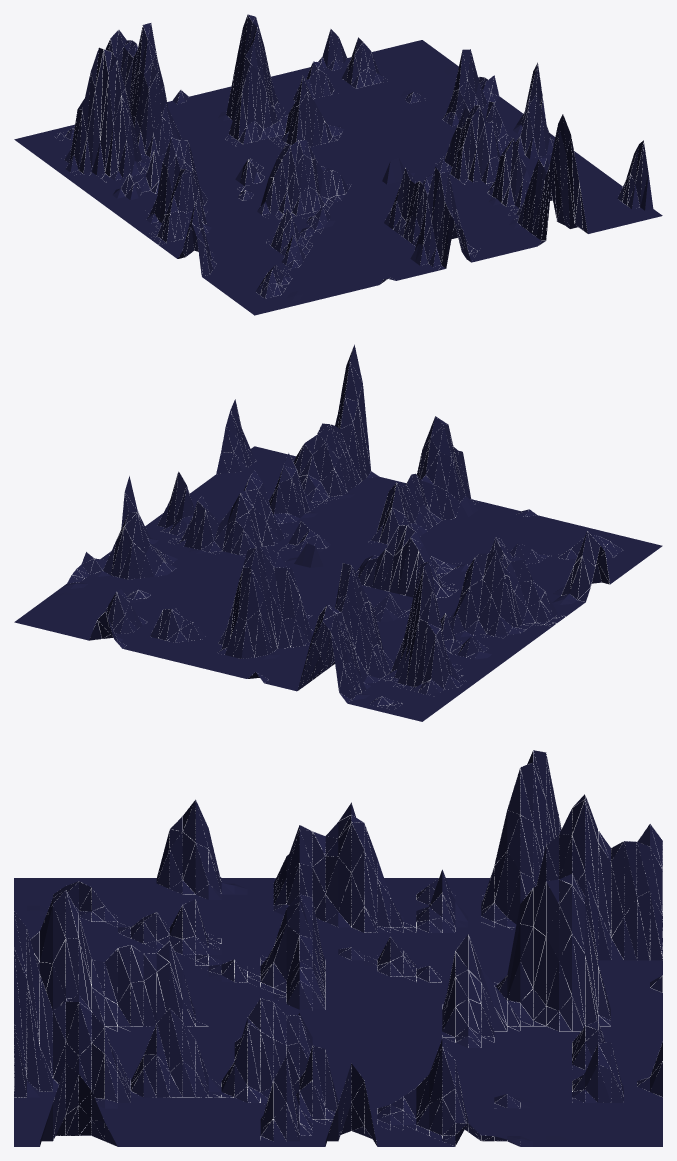
File: map4.gltf
3 views of the same model, one above another, from view 1: azimuth 30°, elevation 25°; view 2: azimuth 150°, elevation 25°; view 3: azimuth 270°, elevation 25° (orthographic). The views are drawn at different scales.
Parts seen in each view (by area): view 1: mapa03, mapa03.001; view 2: mapa03, mapa03.001; view 3: mapa03, mapa03.001.
Part boxes in pixels (x1=…): mapa03: x1=14, y1=14, x2=662, y2=315; mapa03.001: x1=55, y1=15, x2=645, y2=298; mapa03: x1=14, y1=344, x2=662, y2=721; mapa03.001: x1=72, y1=345, x2=616, y2=706; mapa03: x1=14, y1=750, x2=662, y2=1146; mapa03.001: x1=14, y1=750, x2=662, y2=1145.
Size of the model in its own units: 294 by 87.11 by 300.
